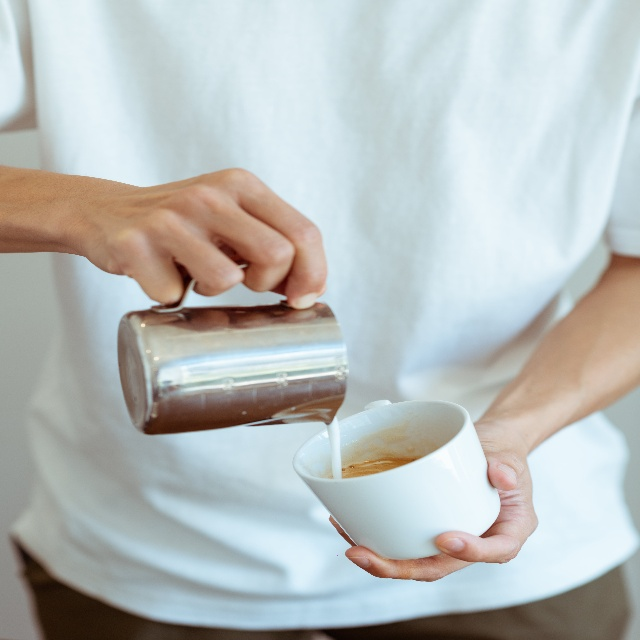Sin_guantes: (327, 401, 542, 583), (87, 155, 329, 312)
